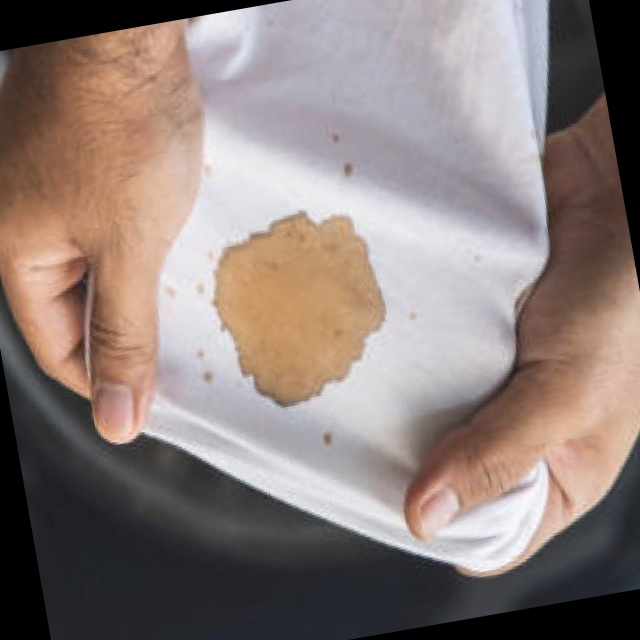coffee: (197, 200, 401, 421)
